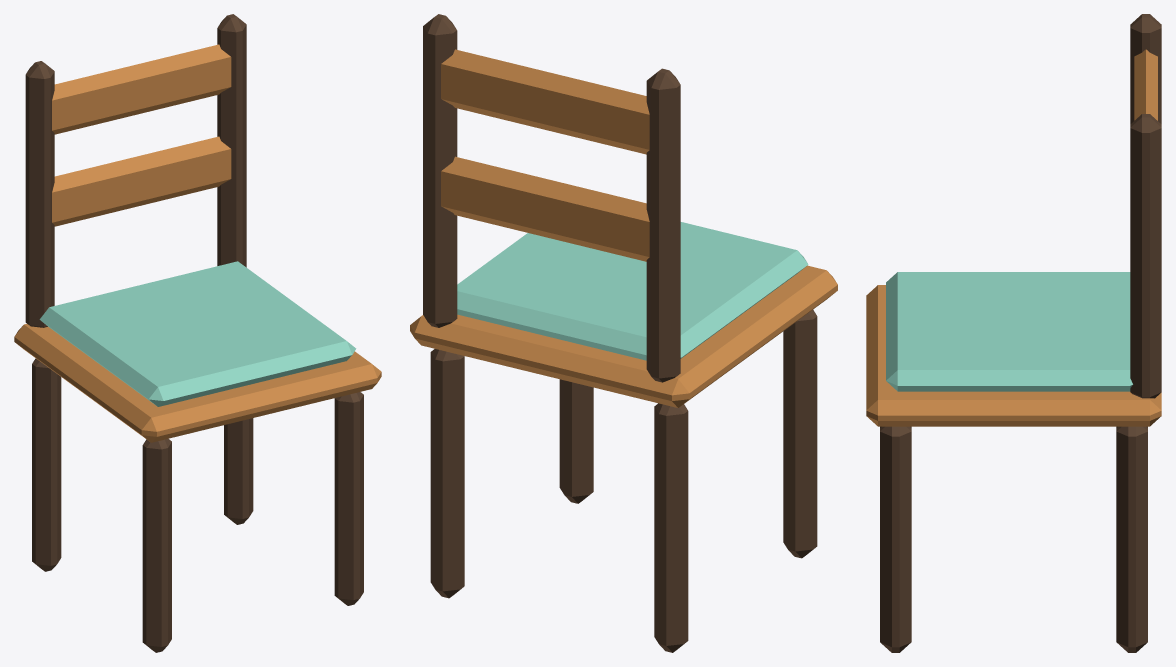
File: CatCafe_Furniture_Chair.glb
The picture shows the model from 3 angles, left to right: view 1: azimuth 30°, elevation 25°; view 2: azimuth 150°, elevation 25°; view 3: azimuth 270°, elevation 25°; orthographic projection. The views are drawn at different scales.
Visible parts, largest first — view 1: CatCafe_Furniture_Chair; view 2: CatCafe_Furniture_Chair; view 3: CatCafe_Furniture_Chair.
Boxes of the visible parts, x1,y1,x2,y2 form: CatCafe_Furniture_Chair: (14,14,381,652); CatCafe_Furniture_Chair: (410,14,837,652); CatCafe_Furniture_Chair: (866,14,1161,652).
Bounding box in the file's own units: 1.5 × 3 × 1.5.
1 material, 1 textured.
